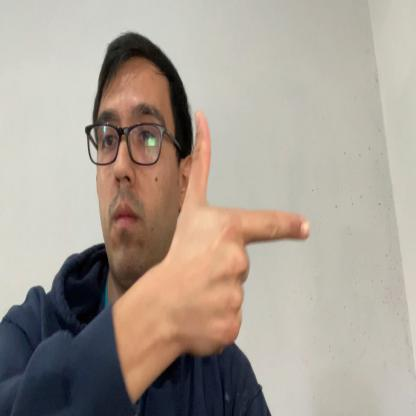G: (178, 109, 310, 354)
